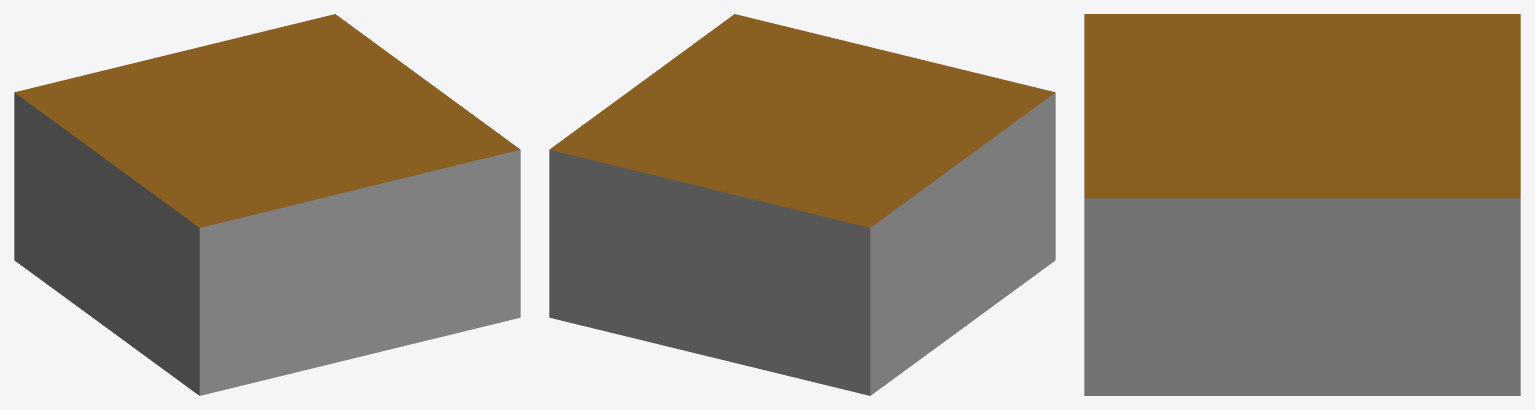
Rendered from case_15.fbx.
3 views of the same model, side by side, from view 1: azimuth 30°, elevation 25°; view 2: azimuth 150°, elevation 25°; view 3: azimuth 270°, elevation 25° (orthographic). The views are drawn at different scales.
Parts seen in each view (by area): view 1: case_15; view 2: case_15; view 3: case_15.
Part boxes in pixels (x1=…): case_15: x1=14, y1=14, x2=520, y2=395; case_15: x1=549, y1=14, x2=1055, y2=395; case_15: x1=1084, y1=14, x2=1520, y2=395.
Size of the model in its own units: 100 by 50 by 100.
